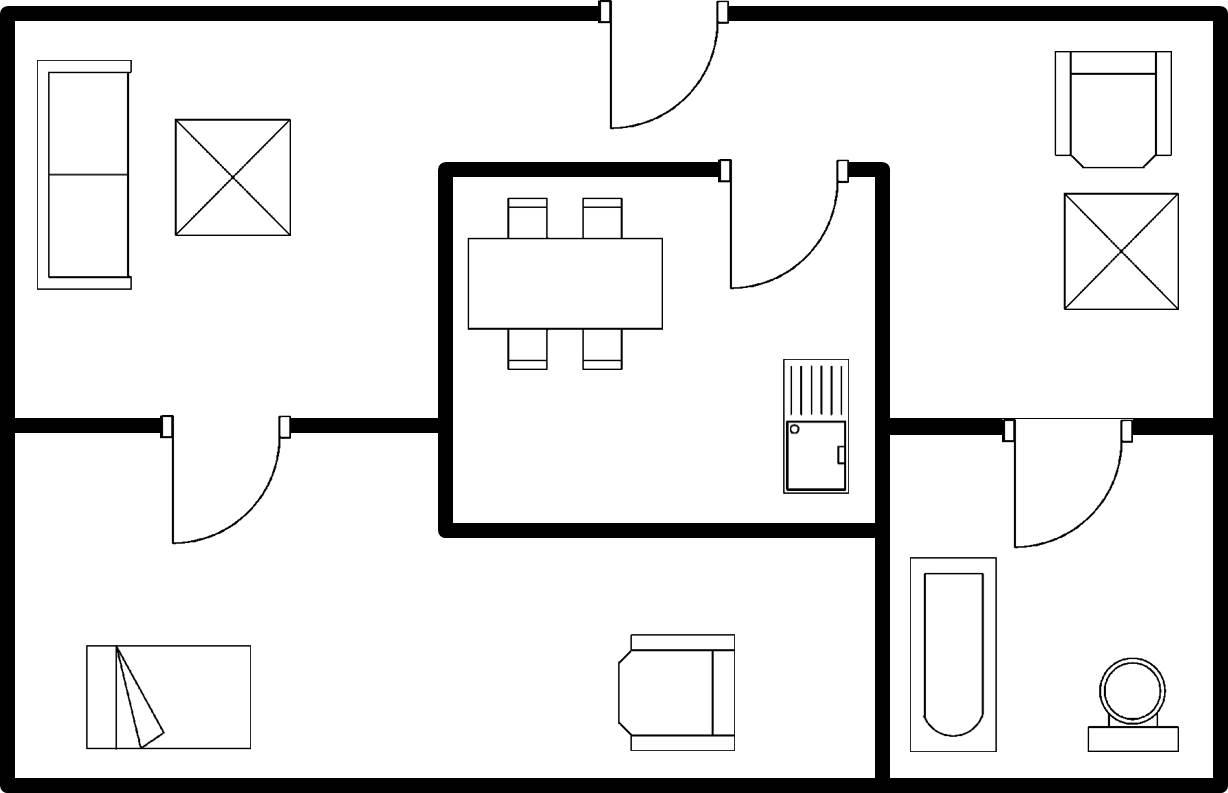bed: (80, 636, 256, 754)
dining_table: (461, 190, 678, 377)
sink: (774, 351, 855, 499)
sofa: (29, 53, 141, 297)
toilet: (1081, 649, 1188, 757)
tub: (904, 552, 1003, 758)
